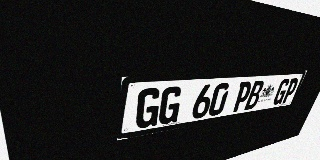0: (207, 83, 231, 117)
6: (191, 84, 215, 120)
B: (244, 80, 265, 110)
G: (134, 87, 162, 130), (157, 86, 184, 126), (272, 79, 291, 105)
P: (231, 81, 253, 112), (281, 78, 300, 104)
